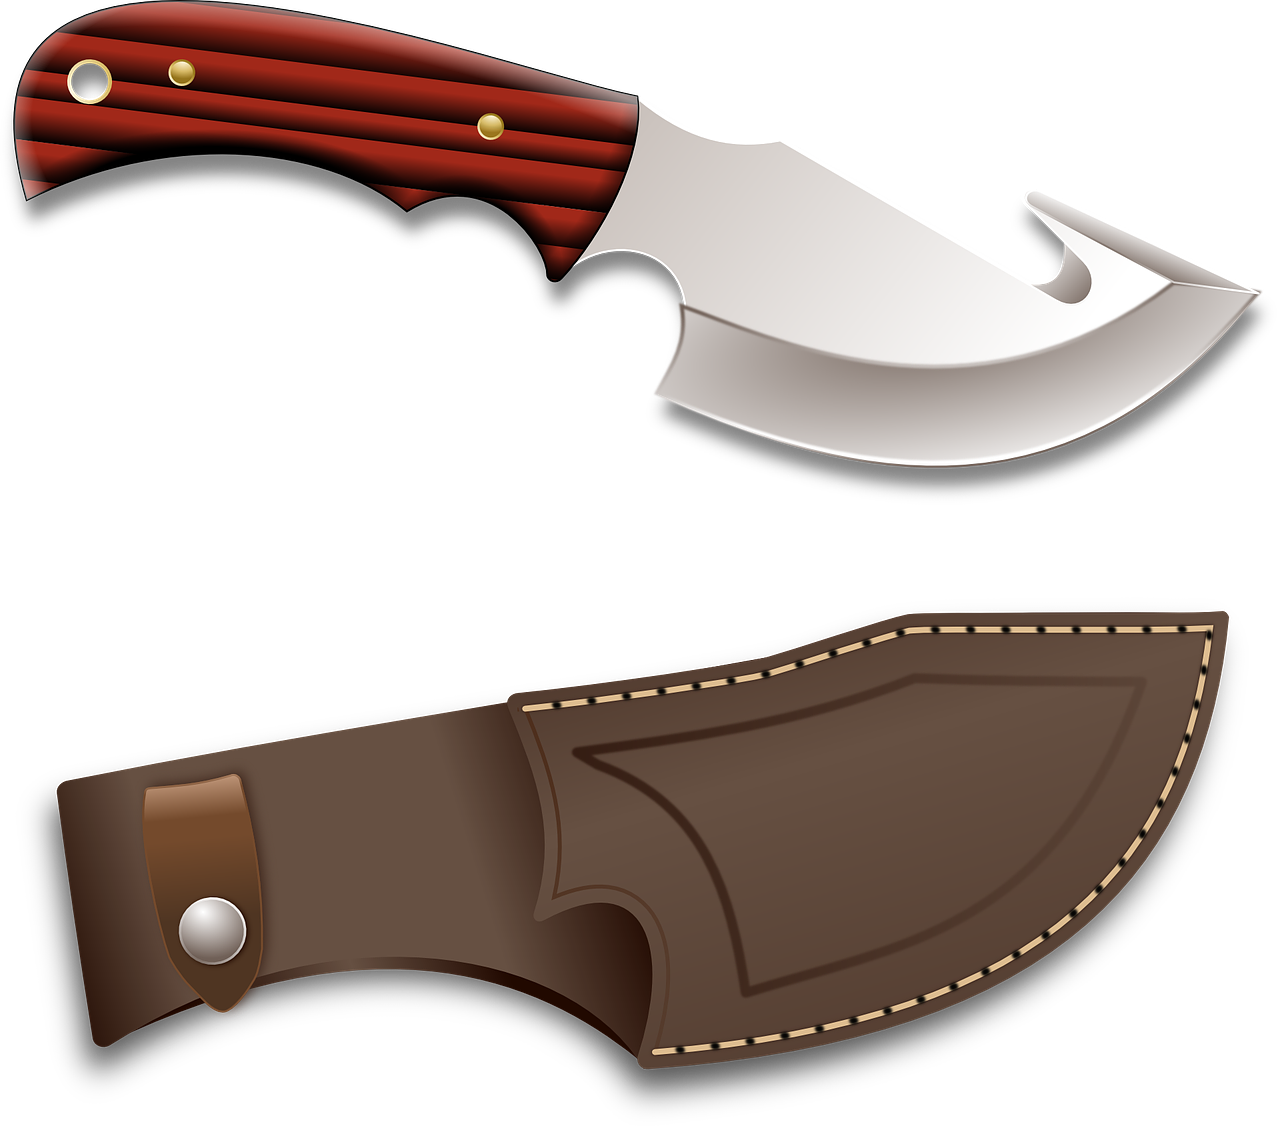knife: (0, 0, 1261, 471)
